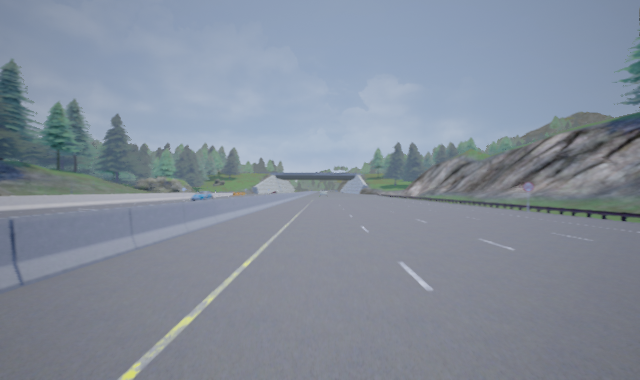vehicle: (190, 191, 213, 202)
